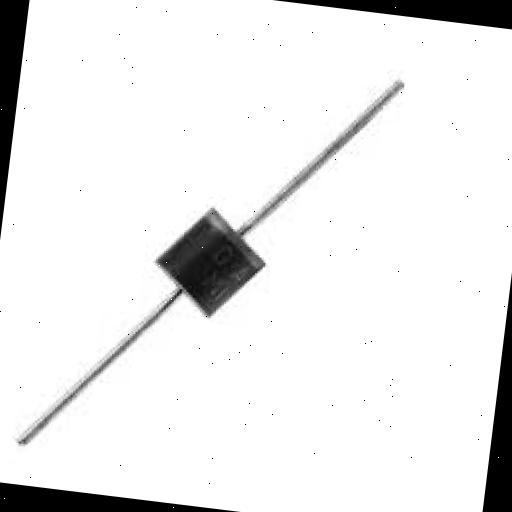DIODE: (12, 34, 406, 485)
